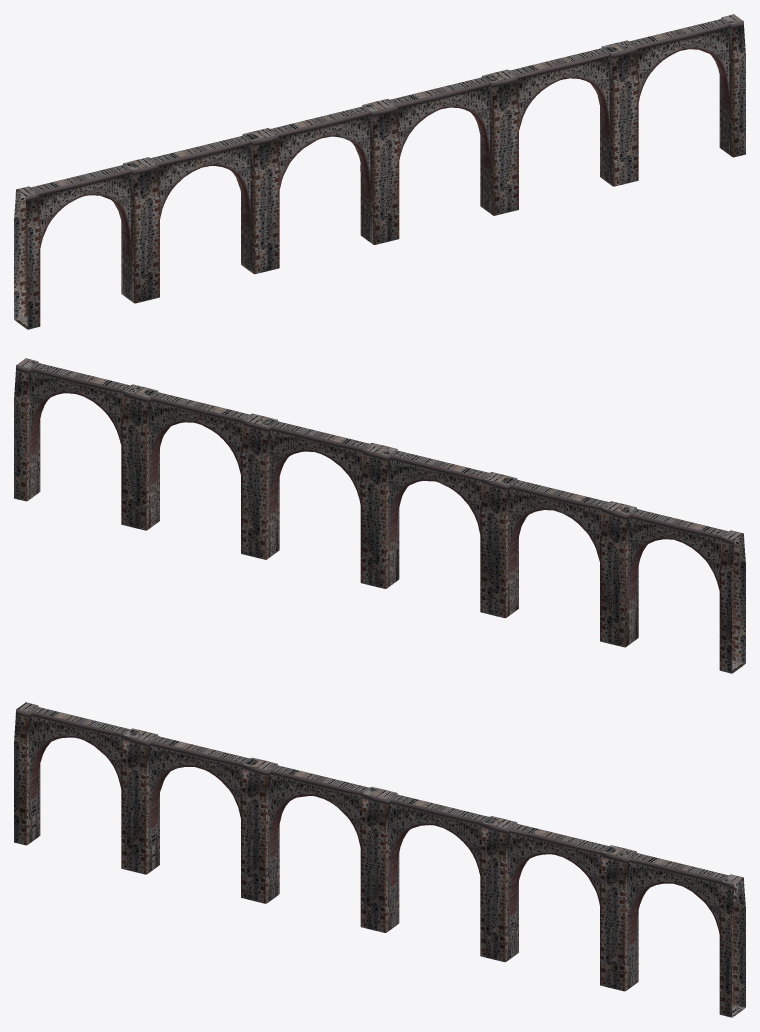
3 renders of one model, top to bottom at view 1: azimuth 30°, elevation 25°; view 2: azimuth 150°, elevation 25°; view 3: azimuth 330°, elevation 25°, orthographic.
Parts seen in each view (by area): view 1: Plane.004; view 2: Plane.004; view 3: Plane.004.
Part boxes in pixels (bbox=[...]): Plane.004: bbox=[14, 14, 745, 329]; Plane.004: bbox=[14, 358, 745, 673]; Plane.004: bbox=[14, 702, 745, 1017].
Bounding box in the file's own units: 40.94 × 7.19 × 1.37.
4 materials, 3 textured.
